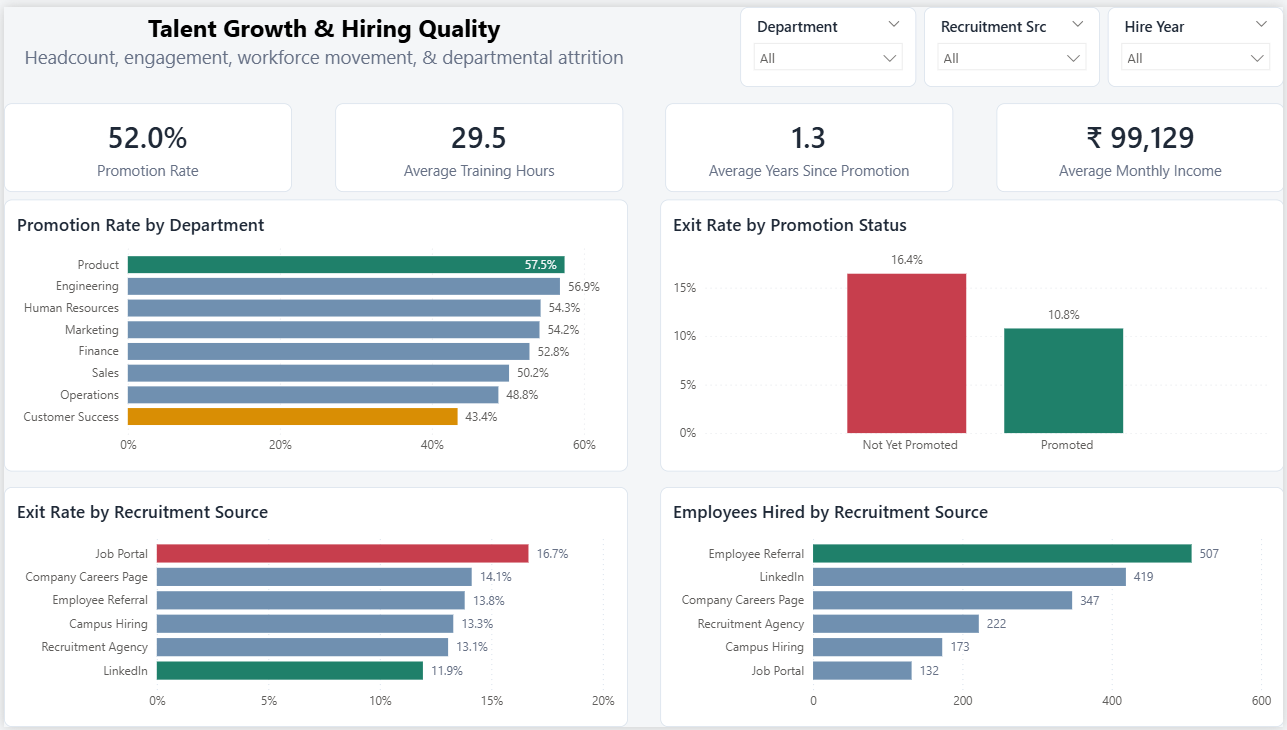

This screenshot's page, from the dashboard's own definition file:
{"tool":"powerbi","page":{"name":"Talent Growth & Hiring Quality","canvas":[1280,720],"ordinal":3},"visuals":[{"type":"card","fields":{"Values":["_Measures.Promotion Rate"]},"box":[0,96,288,89],"z":0},{"type":"card","fields":{"Values":["_Measures.Average Training Hours"]},"box":[330.7,96,288,89],"z":1000},{"type":"card","fields":{"Values":["_Measures.Average Monthly Income"]},"box":[992,96,288,89],"z":2000},{"type":"card","fields":{"Values":["_Measures.Average Years Since Promotion"]},"box":[661.3,96,288,89],"z":3000},{"type":"barChart","fields":{"Category":["Workforce.Department"],"Y":["_Measures.Promotion Rate"]},"box":[0,192,624,272],"z":4000},{"type":"clusteredColumnChart","title":"Exit Rate by Promotion Status","fields":{"Y":["_Measures.Historical Exit Rate"],"Category":["Workforce.PromotionStatus"]},"box":[656,192,624,272],"z":5000},{"type":"barChart","title":"Exit Rate by Recruitment Source","fields":{"Category":["Workforce.RecruitmentSource"],"Y":["_Measures.Historical Exit Rate"]},"box":[0,480,624,240],"z":6000},{"type":"barChart","title":"Employees Hired by Recruitment Source","fields":{"Category":["Workforce.RecruitmentSource"],"Y":["_Measures.Total Employees"]},"box":[656,480,624,240],"z":7000},{"type":"textbox","box":[0,0,640,80],"z":8000},{"type":"slicer","fields":{"Values":["Workforce.Department"]},"box":[736,0,176,80],"z":9000},{"type":"slicer","fields":{"Values":["Workforce.RecruitmentSource"]},"box":[920,0,176,80],"z":10000},{"type":"slicer","fields":{"Values":["Workforce.Hire Year"]},"box":[1104,0,176,80],"z":11000}]}

Visuals, with their boxes in screenshot pixels (x1, y1, x2, y2), scaled from the page's 1280x720 canvas onto the 1287x730 screenshot:
card - _Measures.Promotion Rate: [0,97,290,188]
card - _Measures.Average Training Hours: [333,97,622,188]
card - _Measures.Average Monthly Income: [997,97,1286,188]
card - _Measures.Average Years Since Promotion: [665,97,954,188]
barChart - Workforce.Department x _Measures.Promotion Rate: [0,195,627,470]
"Exit Rate by Promotion Status" clusteredColumnChart: [660,195,1286,470]
"Exit Rate by Recruitment Source" barChart: [0,487,627,729]
"Employees Hired by Recruitment Source" barChart: [660,487,1286,729]
textbox: [0,0,644,81]
slicer - Workforce.Department: [740,0,917,81]
slicer - Workforce.RecruitmentSource: [925,0,1102,81]
slicer - Workforce.Hire Year: [1110,0,1286,81]
